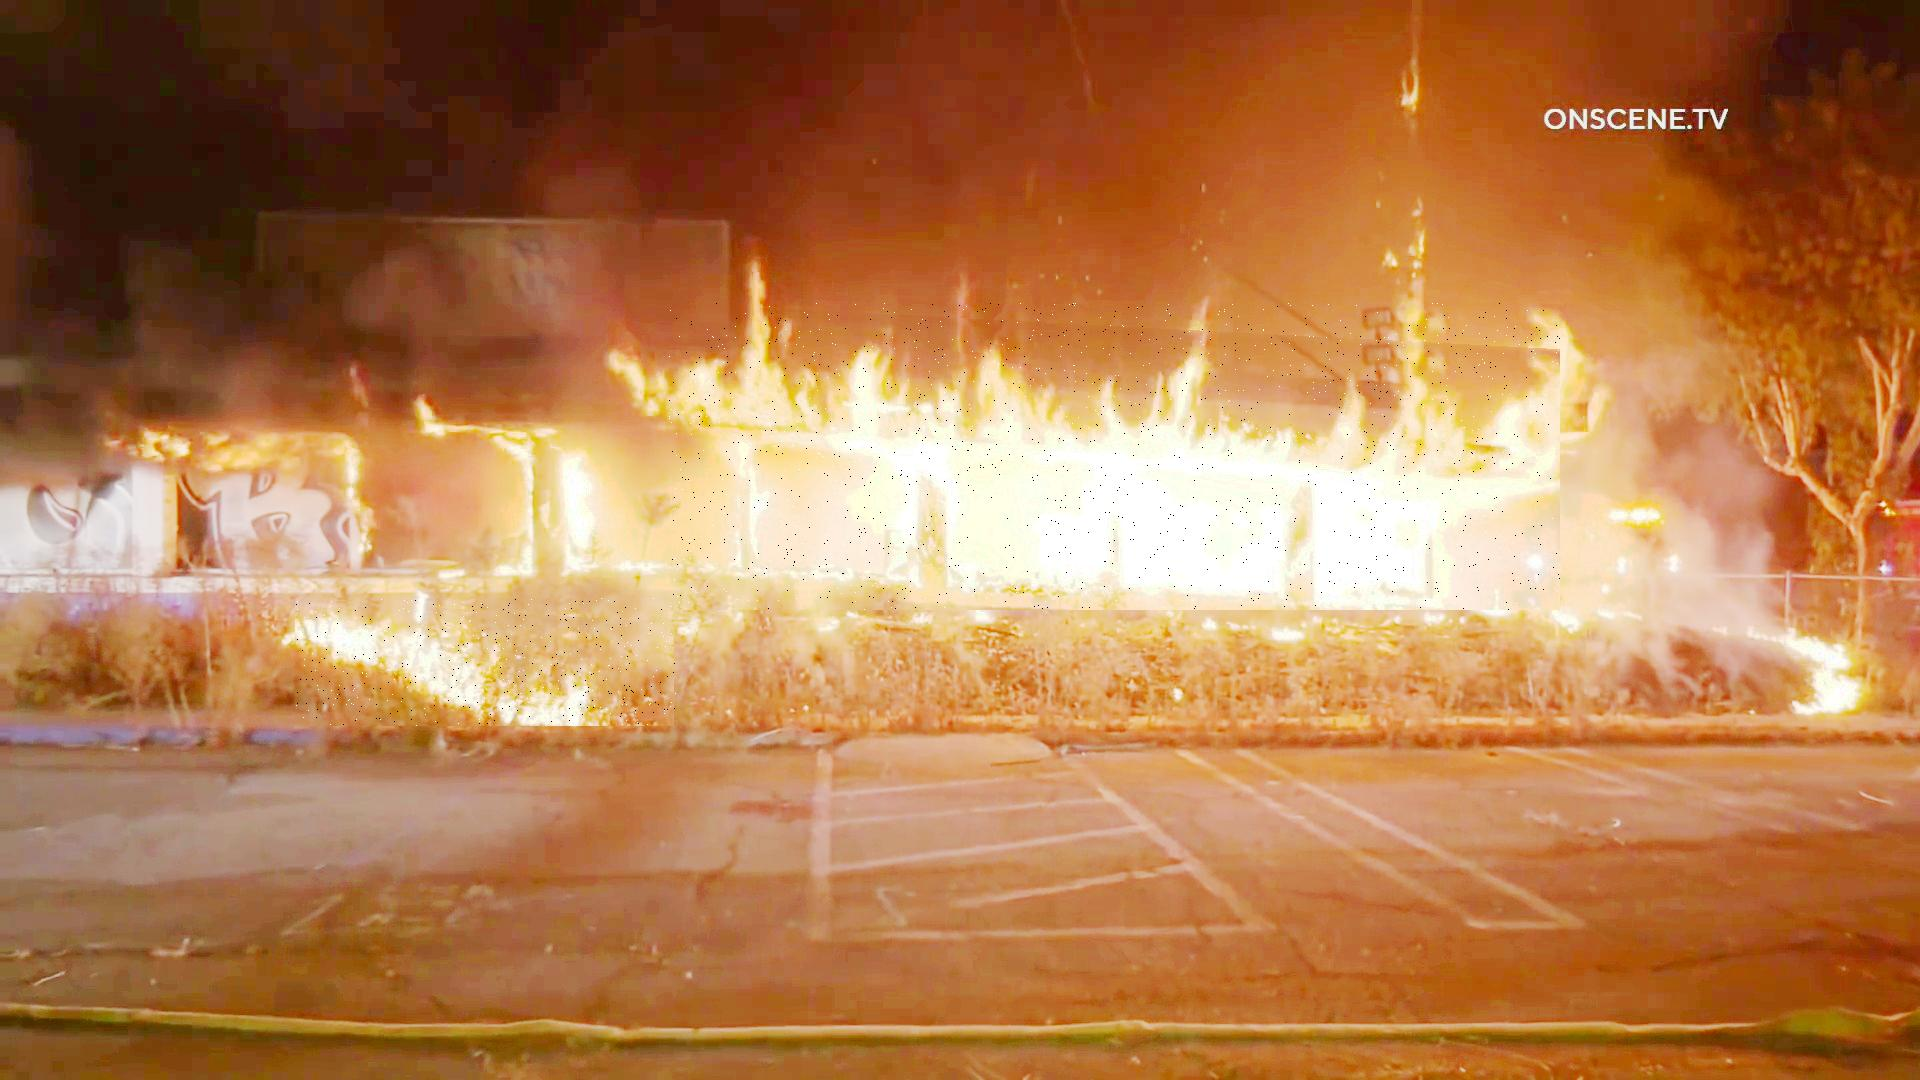fire: (670, 303, 1560, 611), (295, 599, 676, 727)
